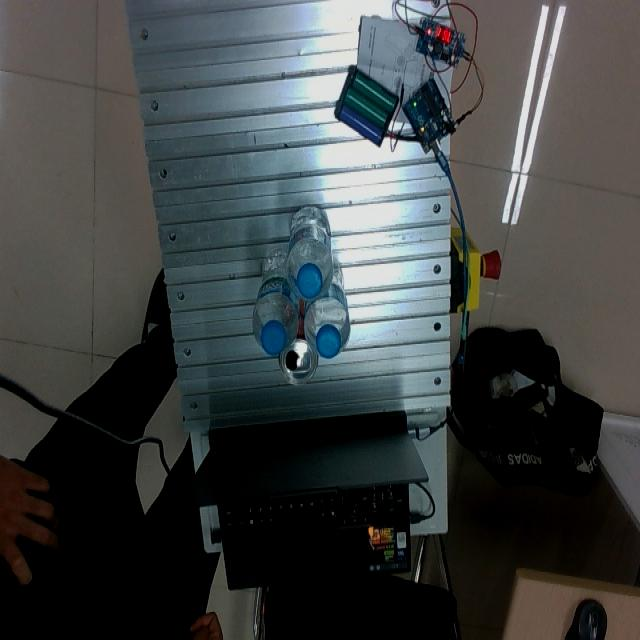coca: (278, 306, 319, 386)
lavie: (253, 249, 301, 356), (303, 261, 350, 359), (286, 208, 334, 301)
